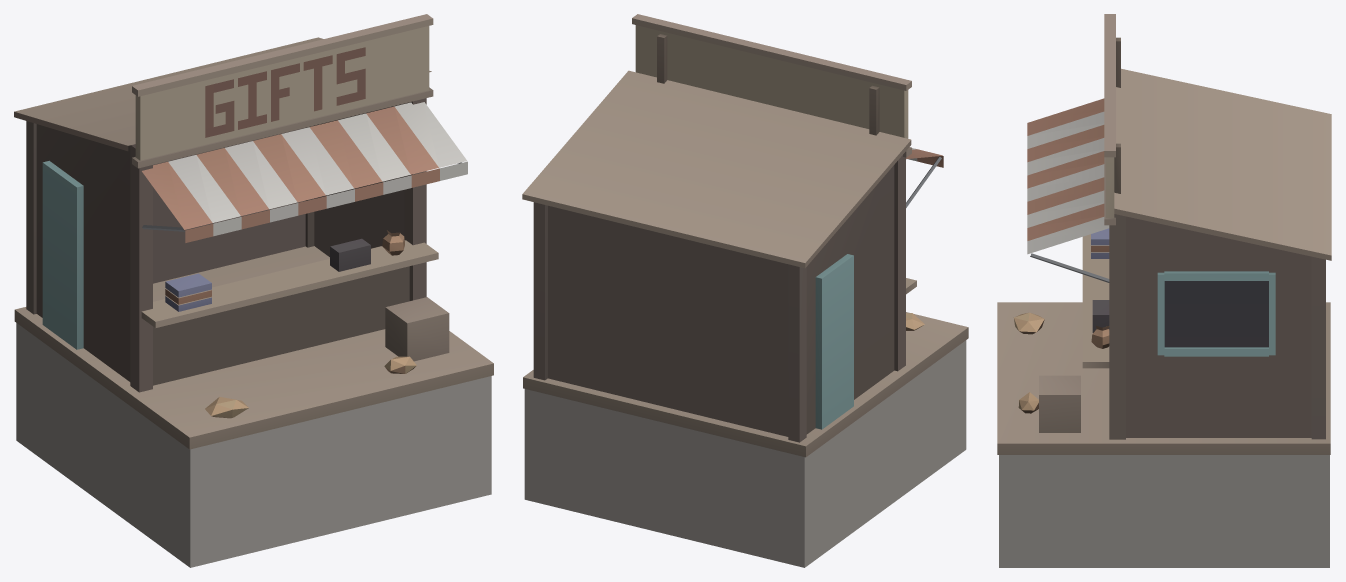
File: gifts.lod1.glb
3 views of the same model, side by side, from view 1: azimuth 30°, elevation 25°; view 2: azimuth 150°, elevation 25°; view 3: azimuth 270°, elevation 25° (orthographic). The views are drawn at different scales.
Bounding box in the file's own units: 4 × 5.48 × 4.
